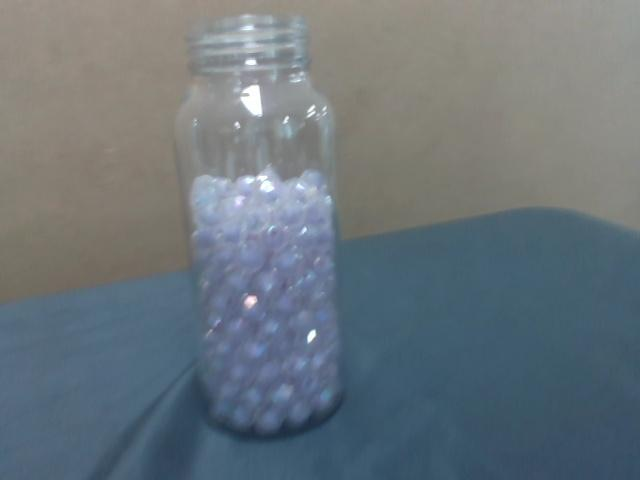purple_bottle: (185, 162, 349, 438)
